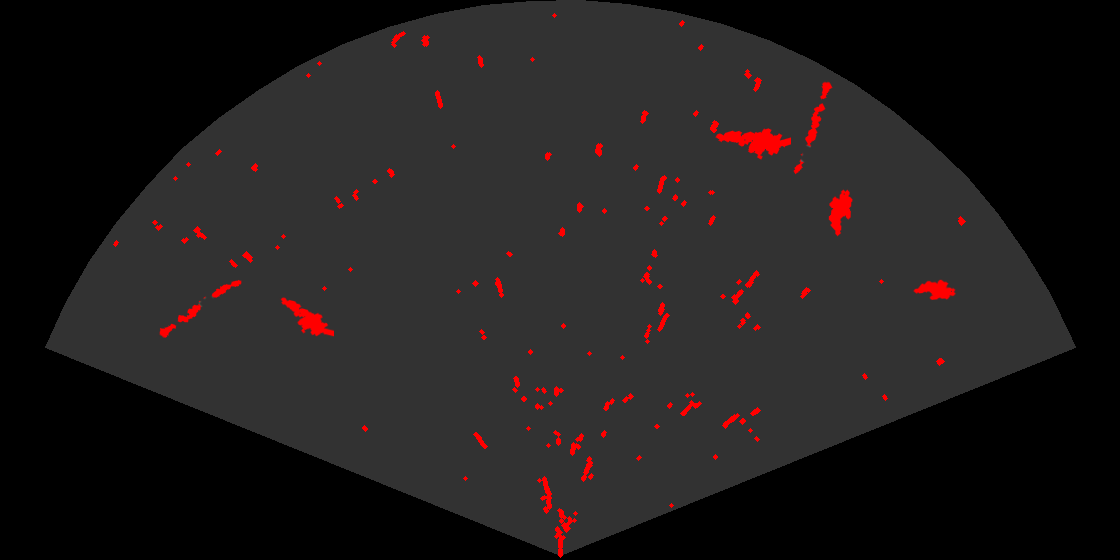AUV: (827, 188, 854, 238), (912, 278, 958, 302)
chain: (158, 278, 243, 339), (792, 80, 834, 176)
frogman: (714, 127, 791, 161), (278, 296, 334, 338)
